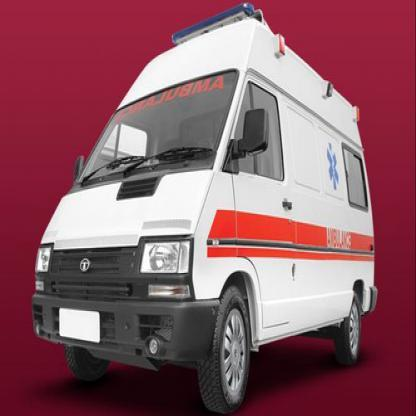Ambulance - v1 Ambulance last generate: (29, 12, 379, 414)
